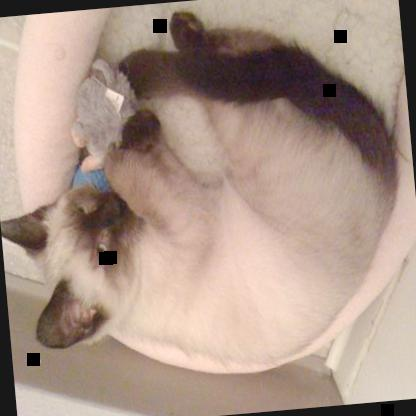cat: (0, 0, 411, 387)
